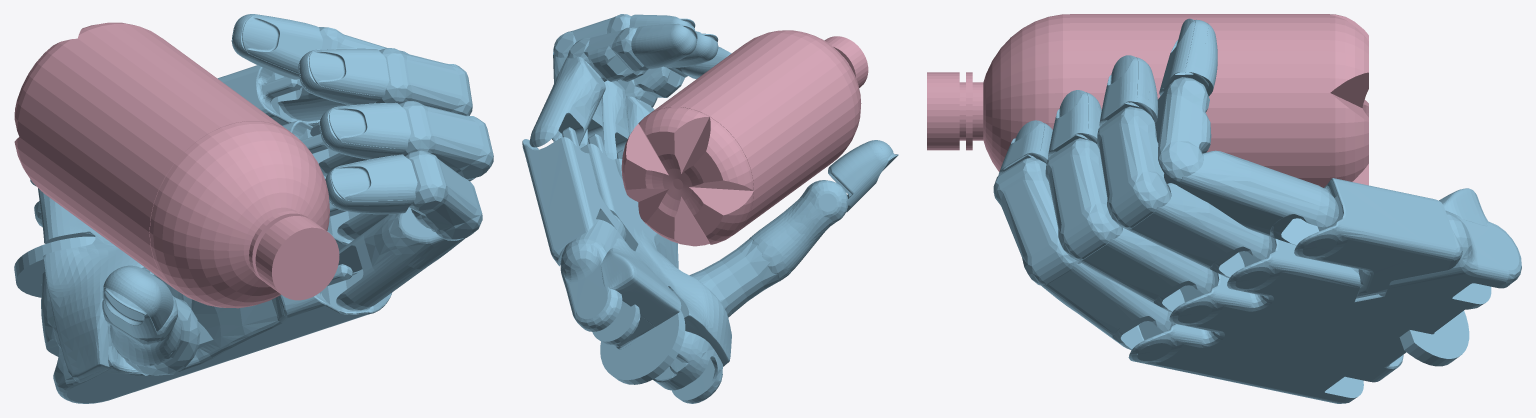
3 views of the same model, side by side, from view 1: azimuth 30°, elevation 25°; view 2: azimuth 150°, elevation 25°; view 3: azimuth 270°, elevation 25° (orthographic). The views are drawn at different scales.
Visible parts, largest first — view 1: world; view 2: world; view 3: world.
Part boxes in pixels (x1,y1,x2,y2): world: [14, 14, 493, 403]; world: [522, 14, 898, 403]; world: [927, 14, 1521, 403].
Size of the model in its own units: 0.1439 by 0.1434 by 0.1837.
